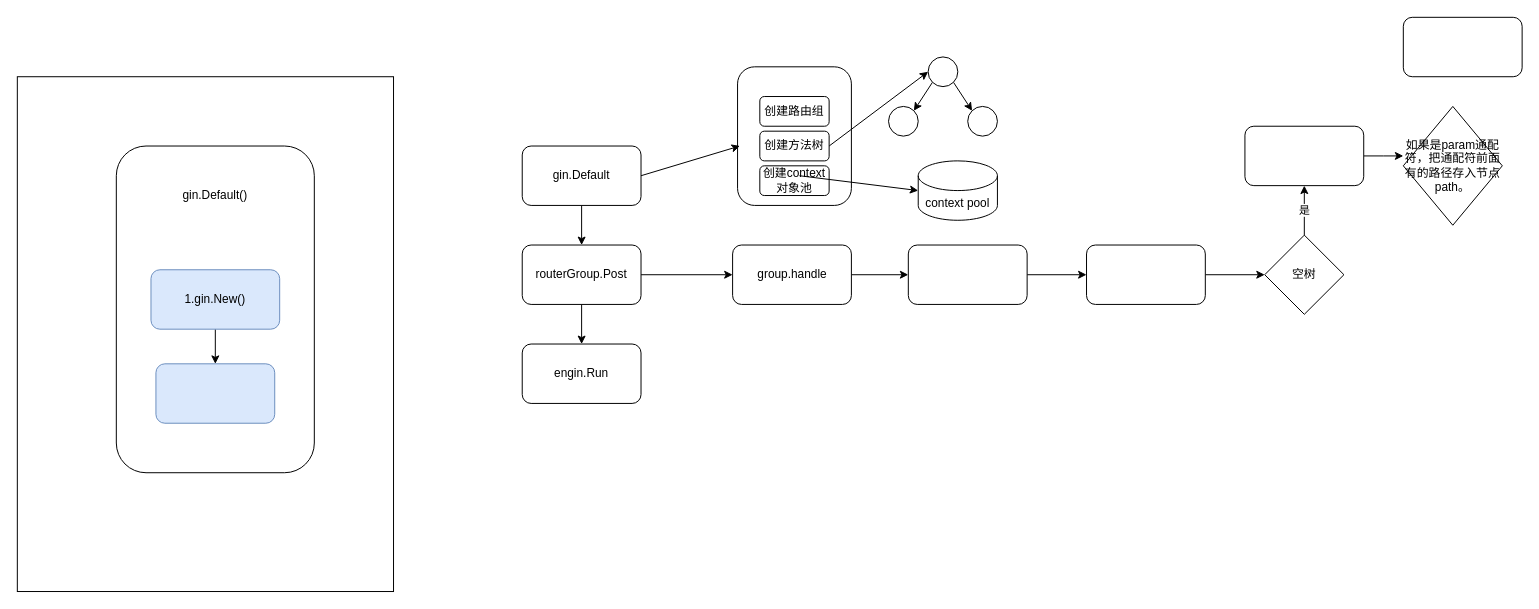
Some shapes in this 1539 by 609 pixel diagram are drawn without their labels. Each missing label, with the centre of its shape:
"2.添加Logger和Recovery中间件" belongs at (x=215, y=393).
"engine.AddRouter" belongs at (x=967, y=274).
"node.AddRouter" belongs at (x=1145, y=274).
"node.insertChild() n.nType = root" belongs at (x=1304, y=155).
"路径通配符 * param “：” * catchAll" belongs at (x=1462, y=46).
